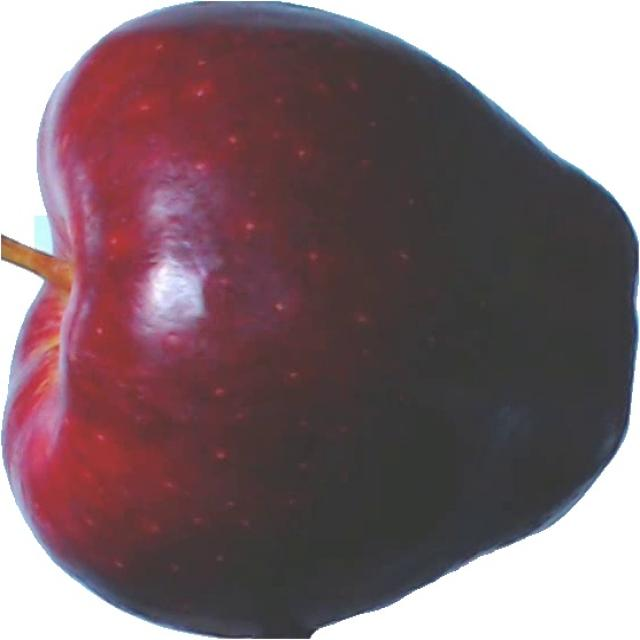Scartlet Spur Elma: (0, 0, 639, 638)
